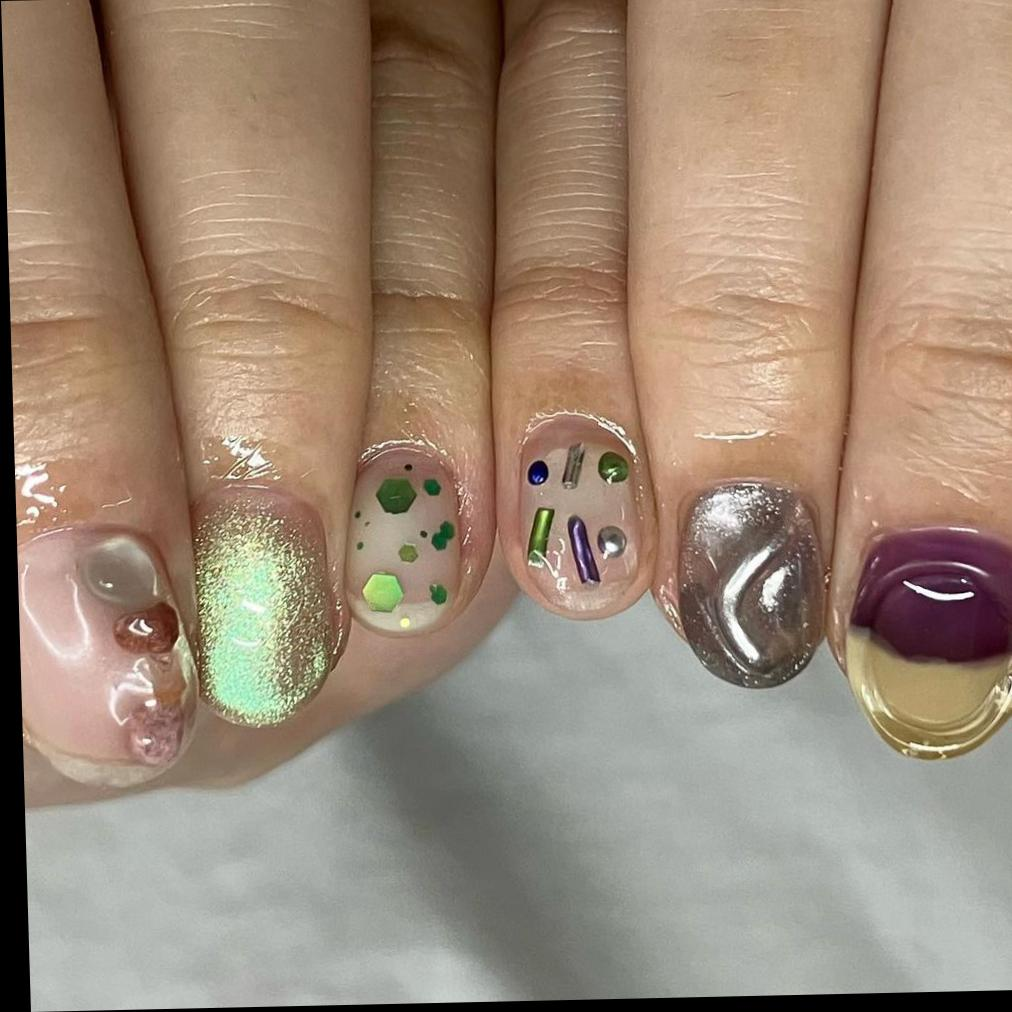nail: (16, 522, 201, 790), (841, 525, 1012, 765), (189, 481, 342, 731), (496, 408, 655, 622), (673, 478, 830, 692), (341, 443, 466, 637), (567, 516, 601, 588)
